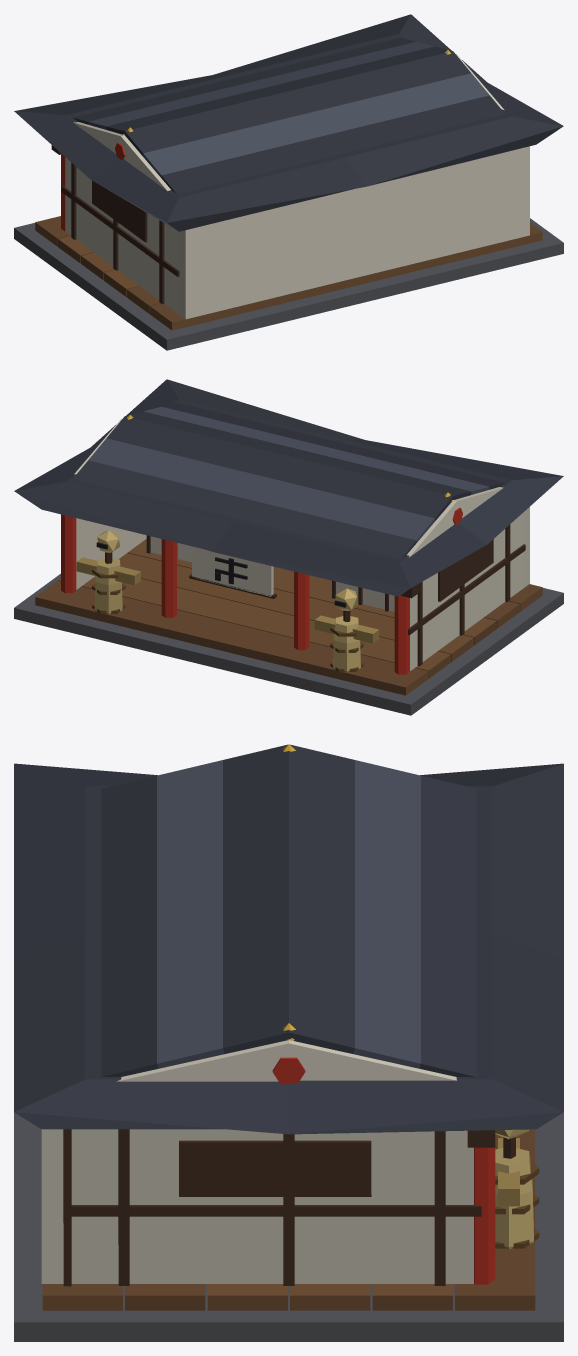
The model's file is Decor_SamuraiShrine_Dojo.fbx.
The picture shows the model from 3 angles, top to bottom: view 1: azimuth 30°, elevation 25°; view 2: azimuth 150°, elevation 25°; view 3: azimuth 270°, elevation 25°; orthographic projection. The views are drawn at different scales.
Visible parts, largest first — view 1: Dojo_Body; view 2: Dojo_Body; view 3: Dojo_Body.
Boxes of the visible parts, bbox=[...] form: Dojo_Body: bbox=[14, 14, 563, 350]; Dojo_Body: bbox=[14, 379, 563, 715]; Dojo_Body: bbox=[14, 744, 563, 1341].
Bounding box in the file's own units: 30 × 11.4 × 20.
